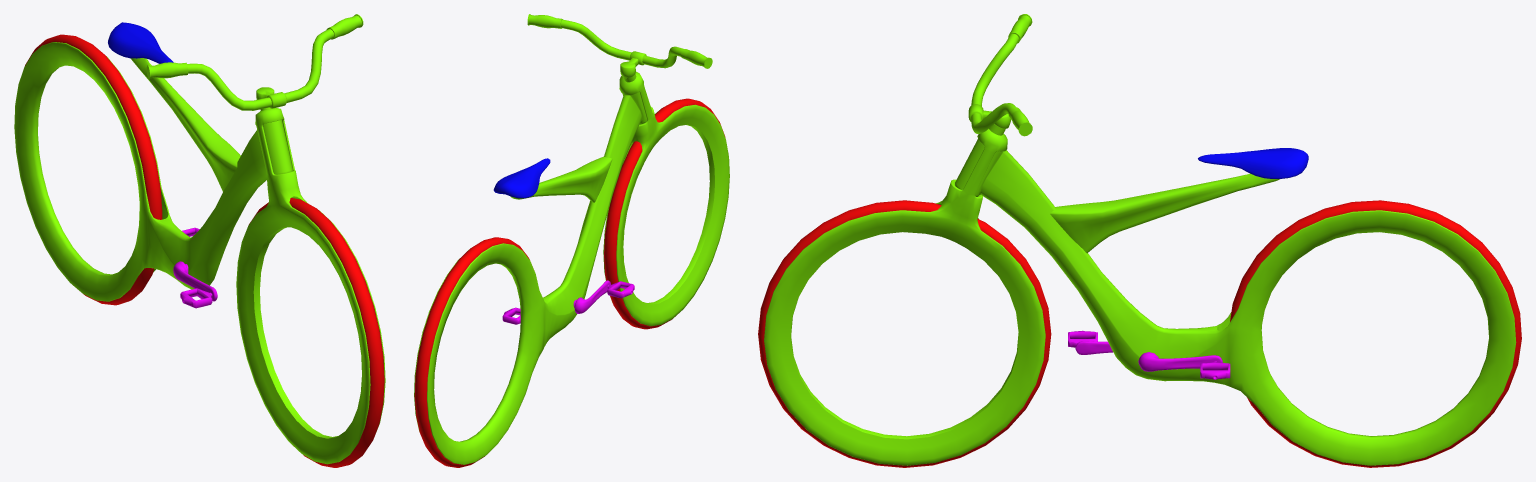
File: Velo_06_Final.FBX
3 views of the same model, side by side, from view 1: azimuth 30°, elevation 25°; view 2: azimuth 150°, elevation 25°; view 3: azimuth 270°, elevation 25° (orthographic). The views are drawn at different scales.
Visible parts, largest first — view 1: Velo, Cadre_Roue_Avant, O_Pneu_Avant, O_Pneu_Arriere, O_Pedale-D; view 2: Velo, Cadre_Roue_Avant, O_Pneu_Arriere, O_Pneu_Avant, O_Pedale-D; view 3: Velo, Cadre_Roue_Avant, O_Pneu_Avant, O_Pneu_Arriere, O_Levier-D001+PedaleG, O_Pedale-D.
Part boxes in pixels (<box>): Velo: <box>14,22,292,301</box>; Cadre_Roue_Avant: <box>146,14,385,464</box>; O_Pneu_Avant: <box>249,198,384,467</box>; O_Pneu_Arriere: <box>25,34,162,305</box>; O_Pedale-D: <box>173,261,217,308</box>; Velo: <box>414,92,647,464</box>; Cadre_Roue_Avant: <box>527,14,729,326</box>; O_Pneu_Arriere: <box>414,237,529,467</box>; O_Pneu_Avant: <box>604,98,725,329</box>; O_Pedale-D: <box>573,280,634,313</box>; Velo: <box>955,138,1516,465</box>; Cadre_Roue_Avant: <box>764,14,1045,465</box>; O_Pneu_Avant: <box>758,200,1051,467</box>; O_Pneu_Arriere: <box>1230,200,1521,467</box>; O_Levier-D001+PedaleG: <box>1138,352,1230,379</box>; O_Pedale-D: <box>1068,330,1112,354</box>.
Bounding box in the file's own units: 52.48 × 88.47 × 153.
